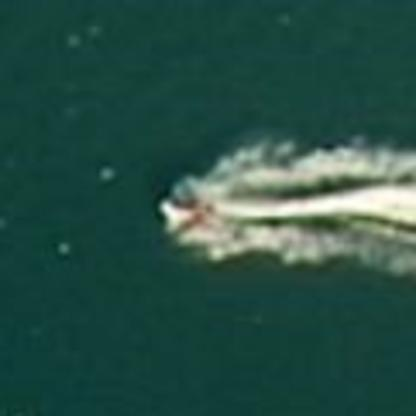ship: (150, 186, 236, 241)
